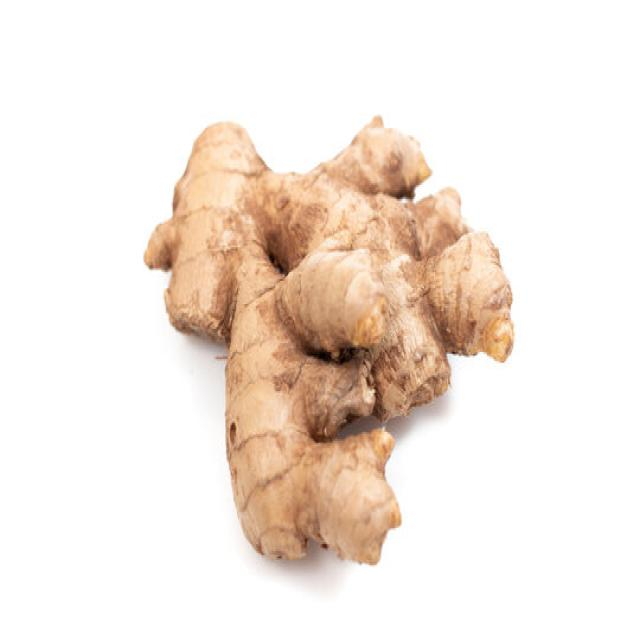Ginger: (142, 112, 514, 565)
